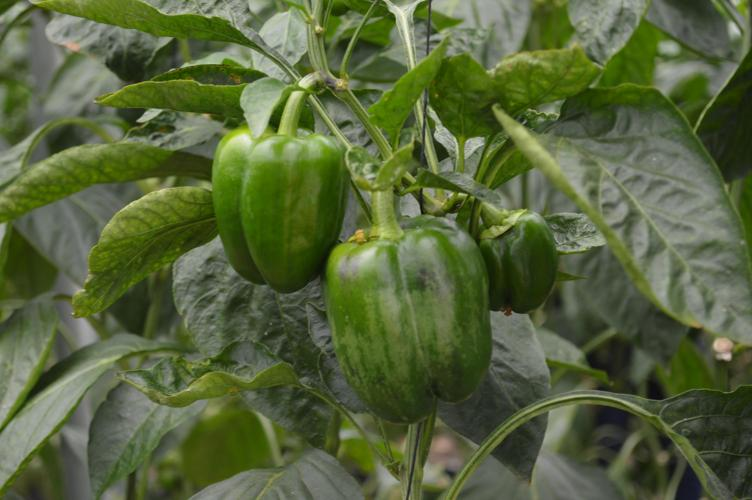BellPepper: (320, 215, 494, 422), (205, 123, 344, 288), (478, 205, 559, 321)
